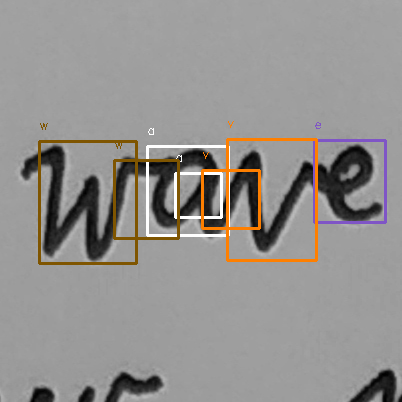a: (145, 142, 228, 245)
e: (321, 140, 390, 226)
v: (233, 147, 319, 255)
w: (36, 141, 139, 264)
